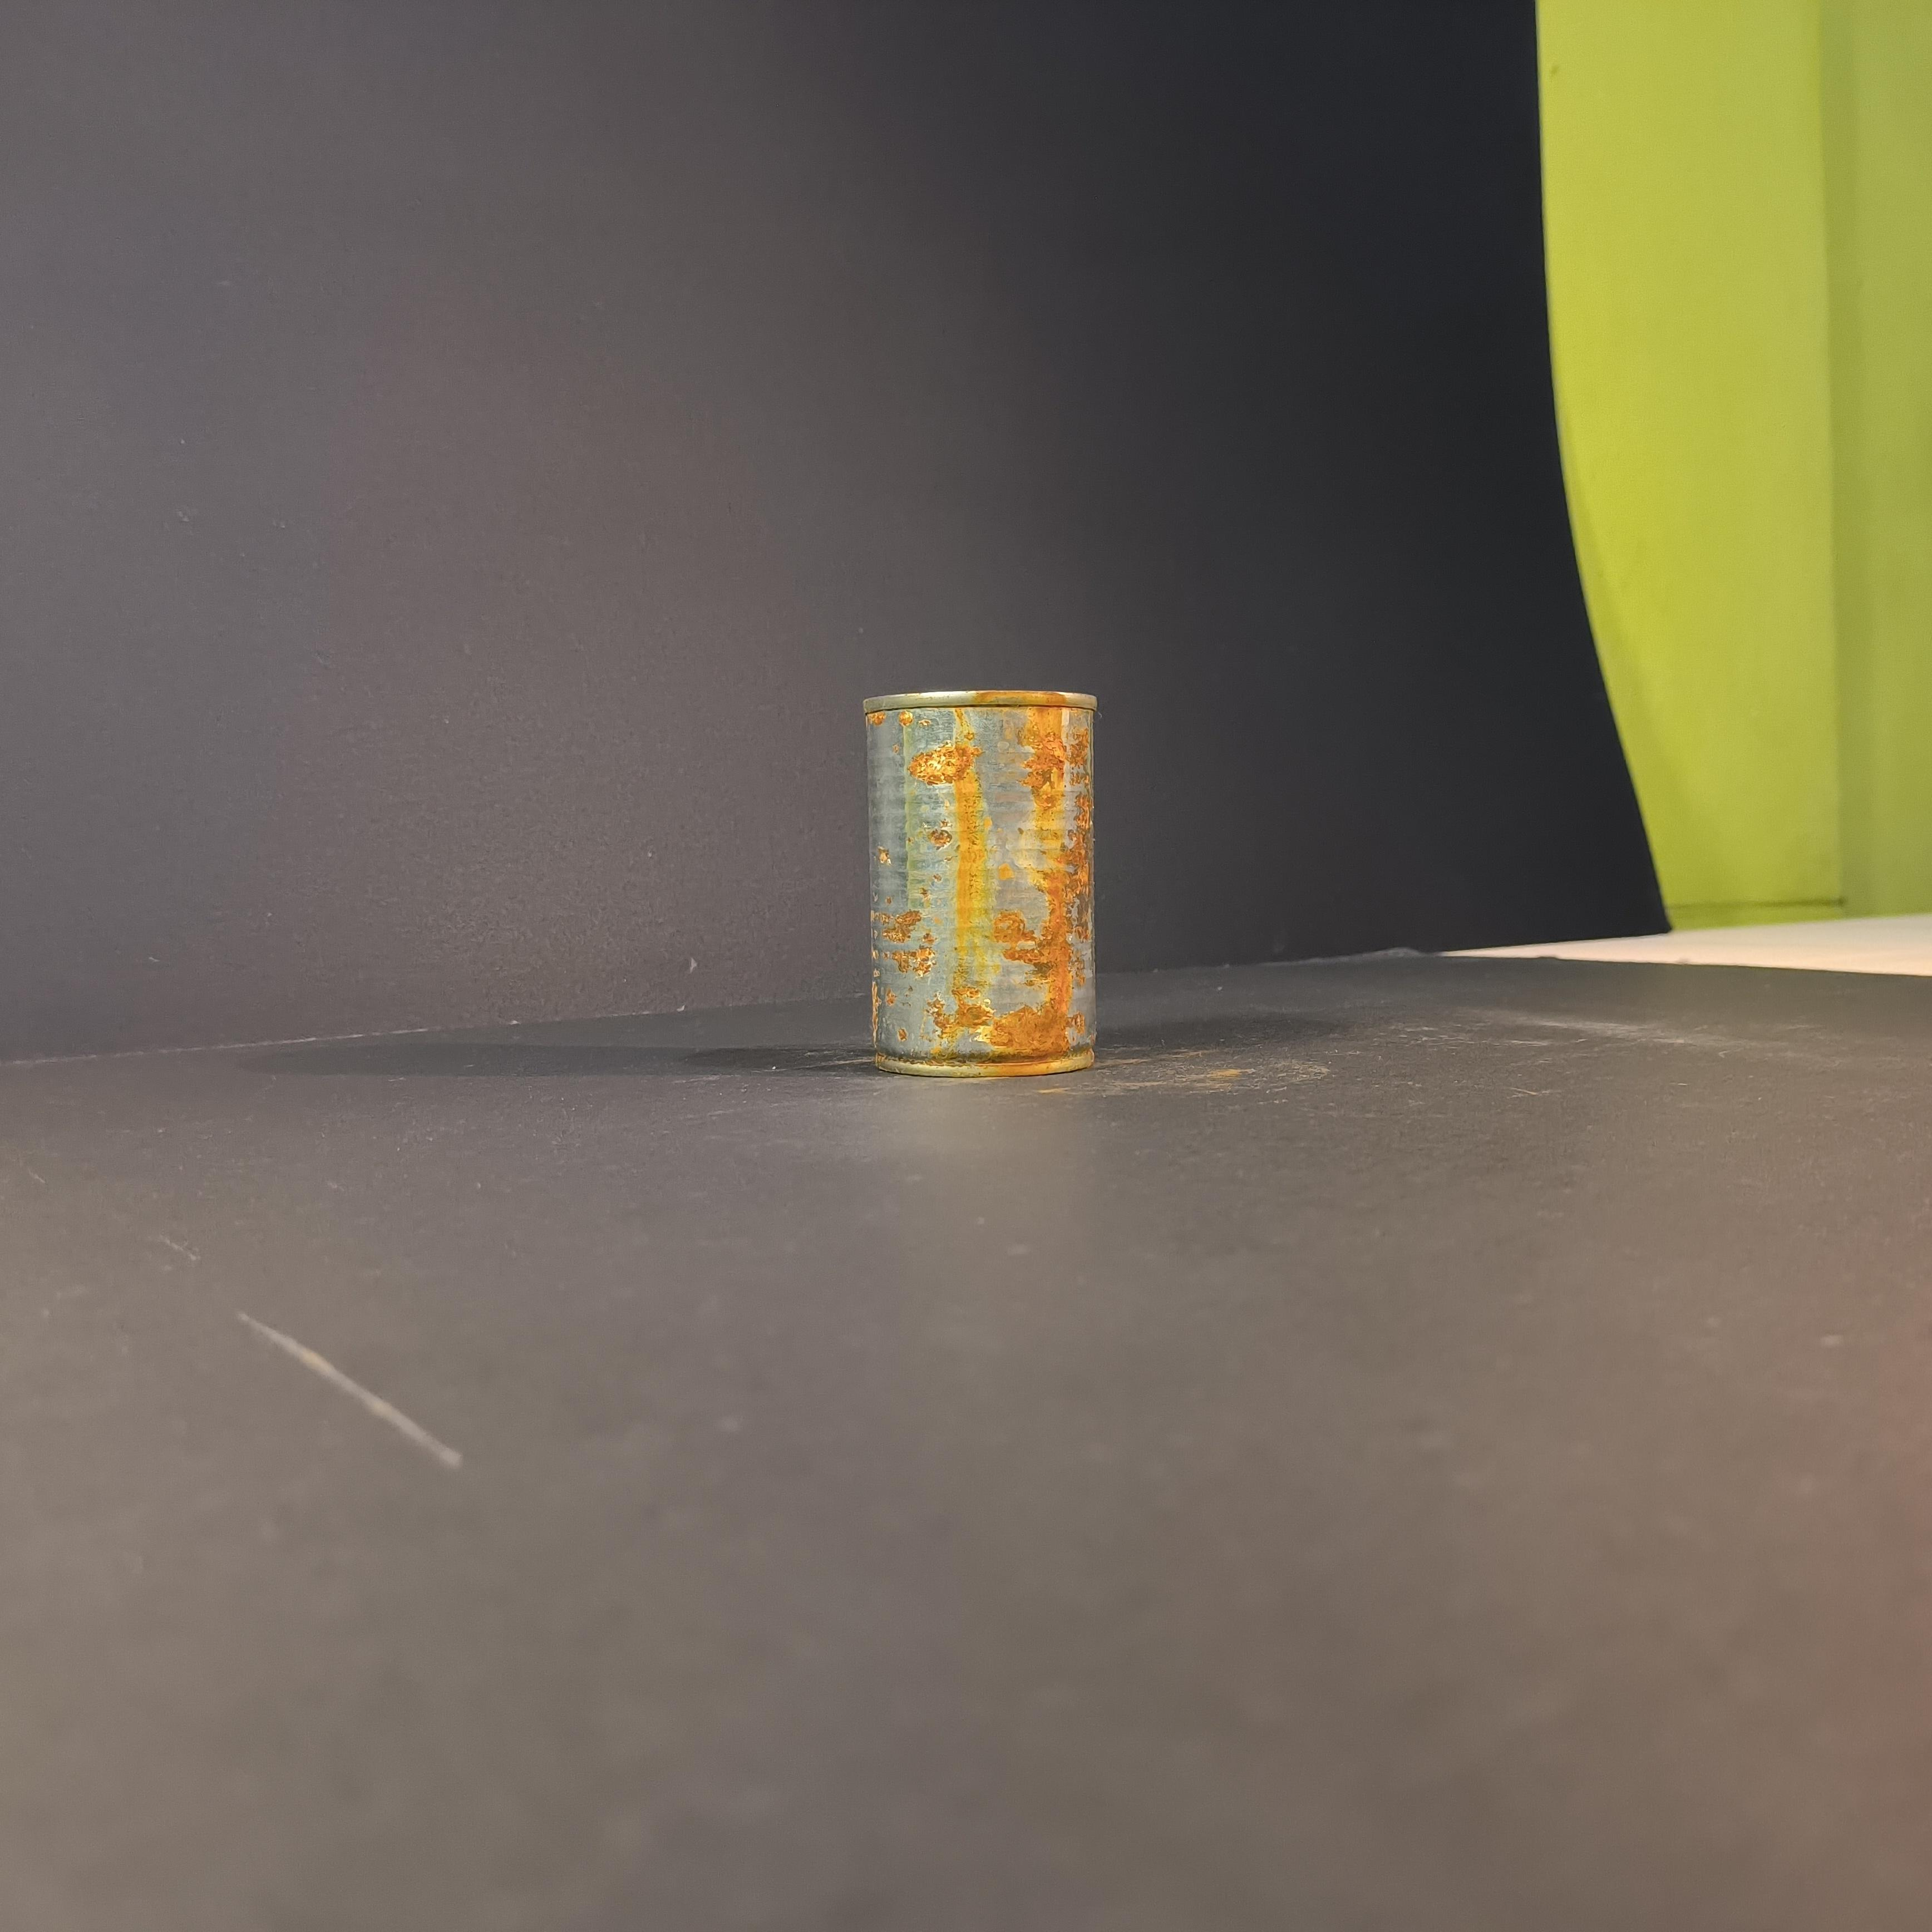Rusted: (846, 674, 1136, 1099)
